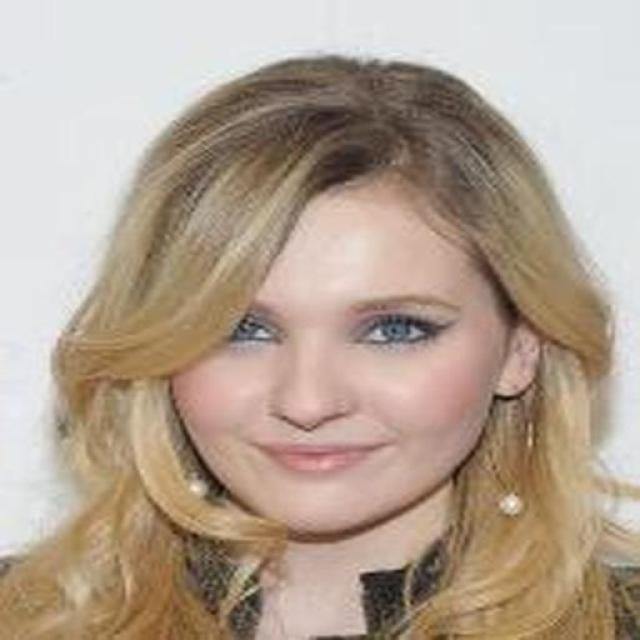bareface: (161, 134, 534, 550)
